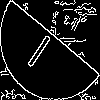I: (25, 25, 59, 70)
